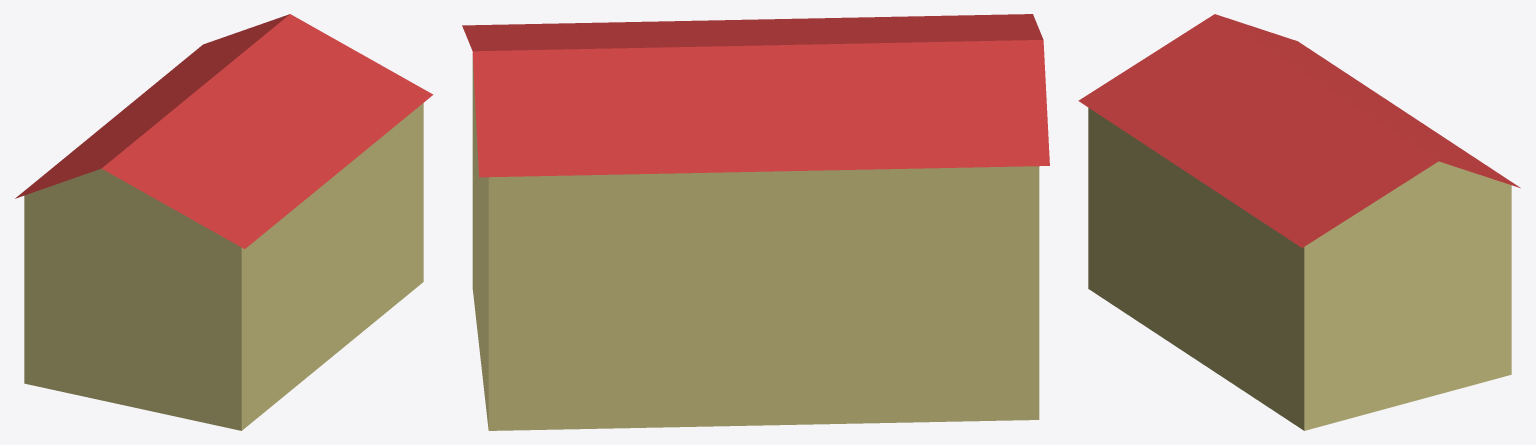
3 renders of one model, left to right at view 1: azimuth 30°, elevation 25°; view 2: azimuth 150°, elevation 25°; view 3: azimuth 270°, elevation 25°, orthographic. The views are drawn at different scales.
Size of the model in its own units: 16.76 by 15.18 by 8.95.
